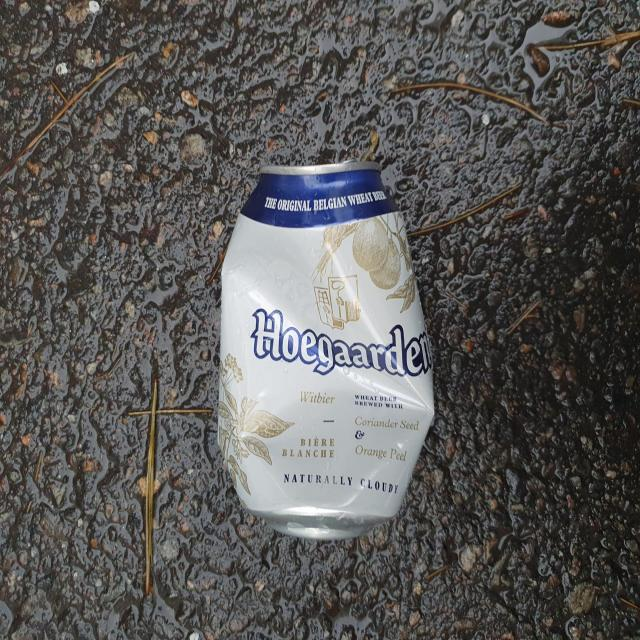can: (218, 162, 434, 540)
